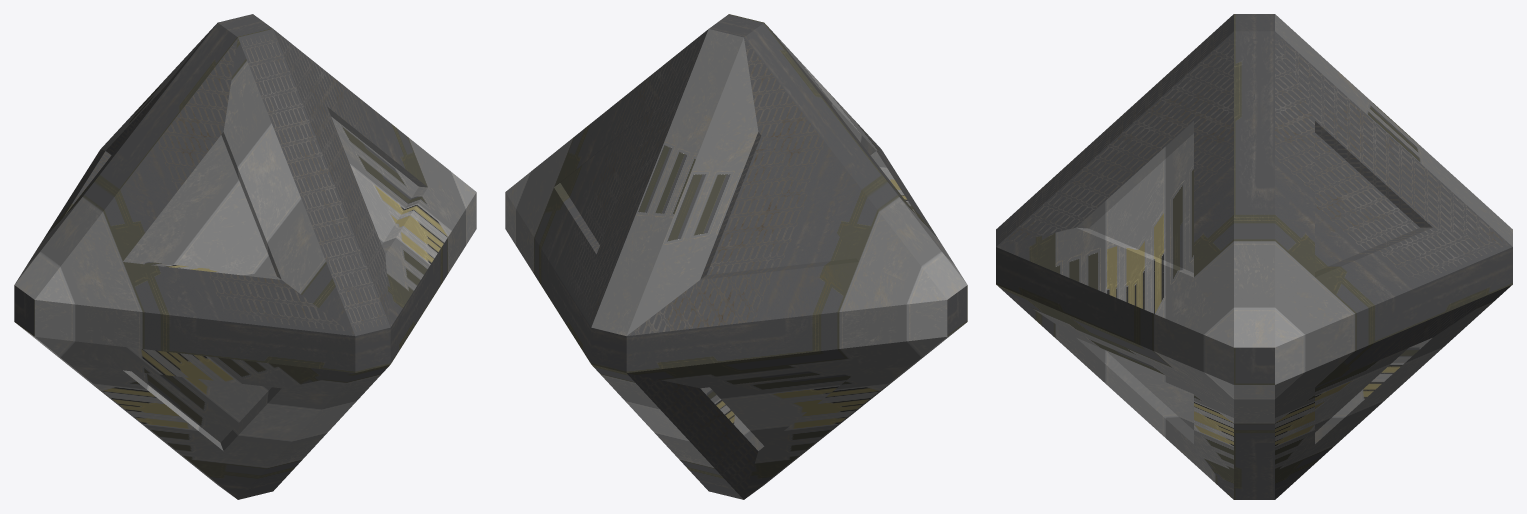
File: diamond.dae
3 renders of one model, left to right at view 1: azimuth 30°, elevation 25°; view 2: azimuth 150°, elevation 25°; view 3: azimuth 270°, elevation 25°, orthographic.
Parts seen in each view (by area): view 1: Cube; view 2: Cube; view 3: Cube.
Part boxes in pixels (x1,y1,x2,y2): Cube: [14, 14, 476, 499]; Cube: [505, 14, 967, 499]; Cube: [996, 14, 1512, 499].
Bounding box in the file's own units: 2 × 2 × 2.
